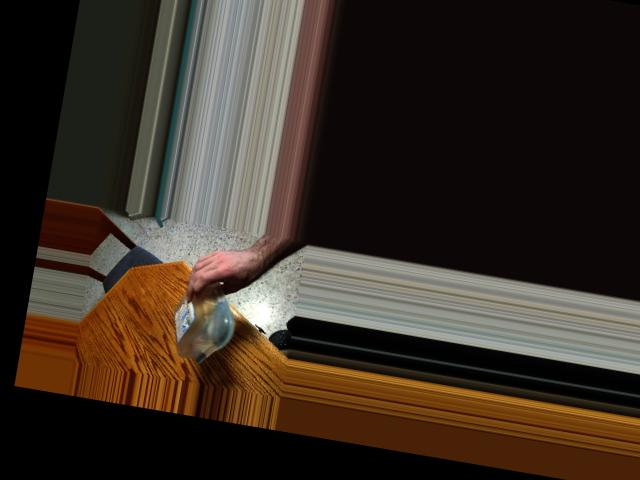cheese: (170, 263, 236, 361)
